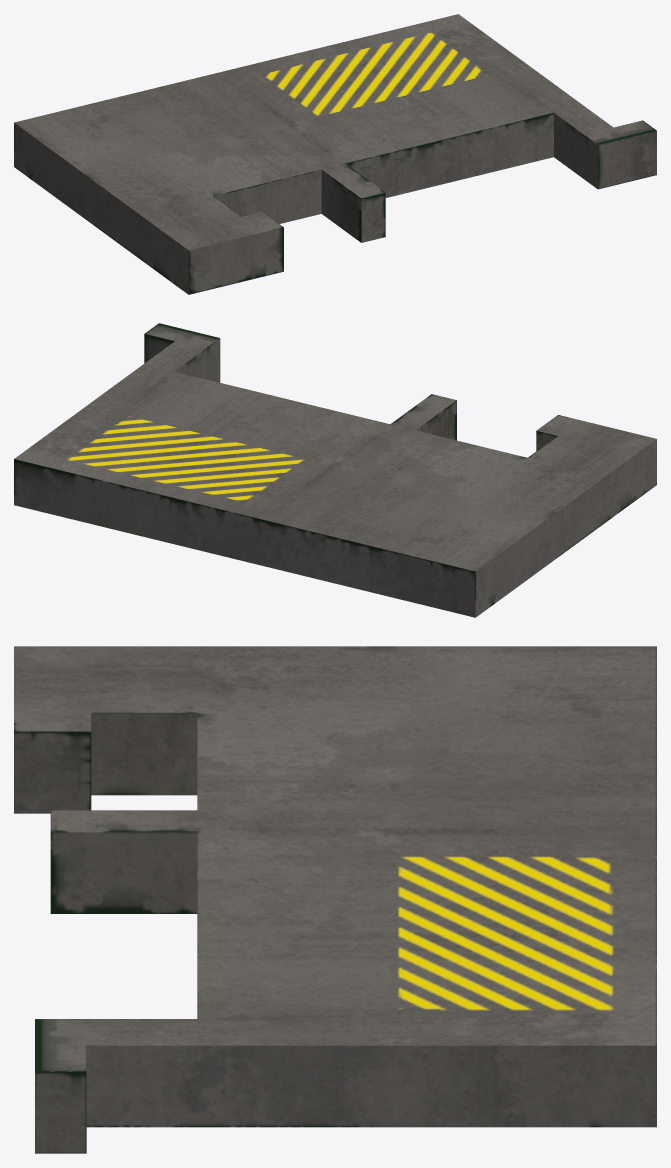
File: dock.fbx
3 views of the same model, one above another, from view 1: azimuth 30°, elevation 25°; view 2: azimuth 150°, elevation 25°; view 3: azimuth 270°, elevation 25° (orthographic). The views are drawn at different scales.
Visible parts, largest first — view 1: Cube; view 2: Cube; view 3: Cube.
Boxes of the visible parts, x1=… form: Cube: x1=14, y1=14, x2=656, y2=294; Cube: x1=14, y1=323, x2=656, y2=617; Cube: x1=14, y1=646, x2=656, y2=1153.
Size of the model in its own units: 9065 by 813 by 5789.
1 material, 1 textured.
